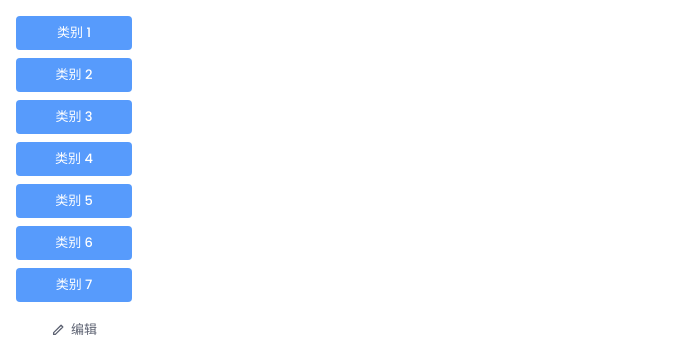
Test: WorkItemContentPopoverContent › 编辑态提供弹跳、多列、油漆桶色板、拖拽手柄和更多菜单
Click the button with class "content-manage": (74, 330) [16,314,132,346]
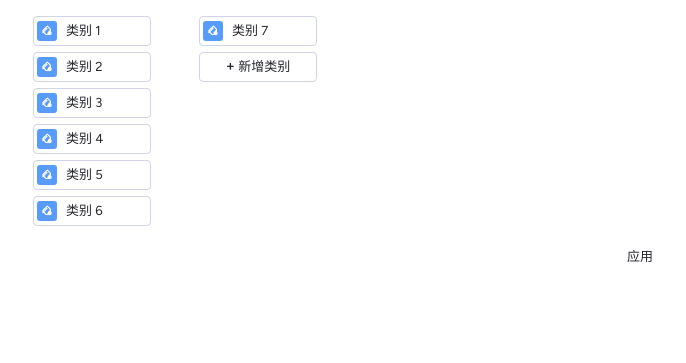
Now the number of elements with class "content-column" is 2, box [33,16,151,226]; [199,16,317,82]
Now the number of elements with class "content-editor-row" is 7
Now the number of buttons with class "color-square-btn" is 7
